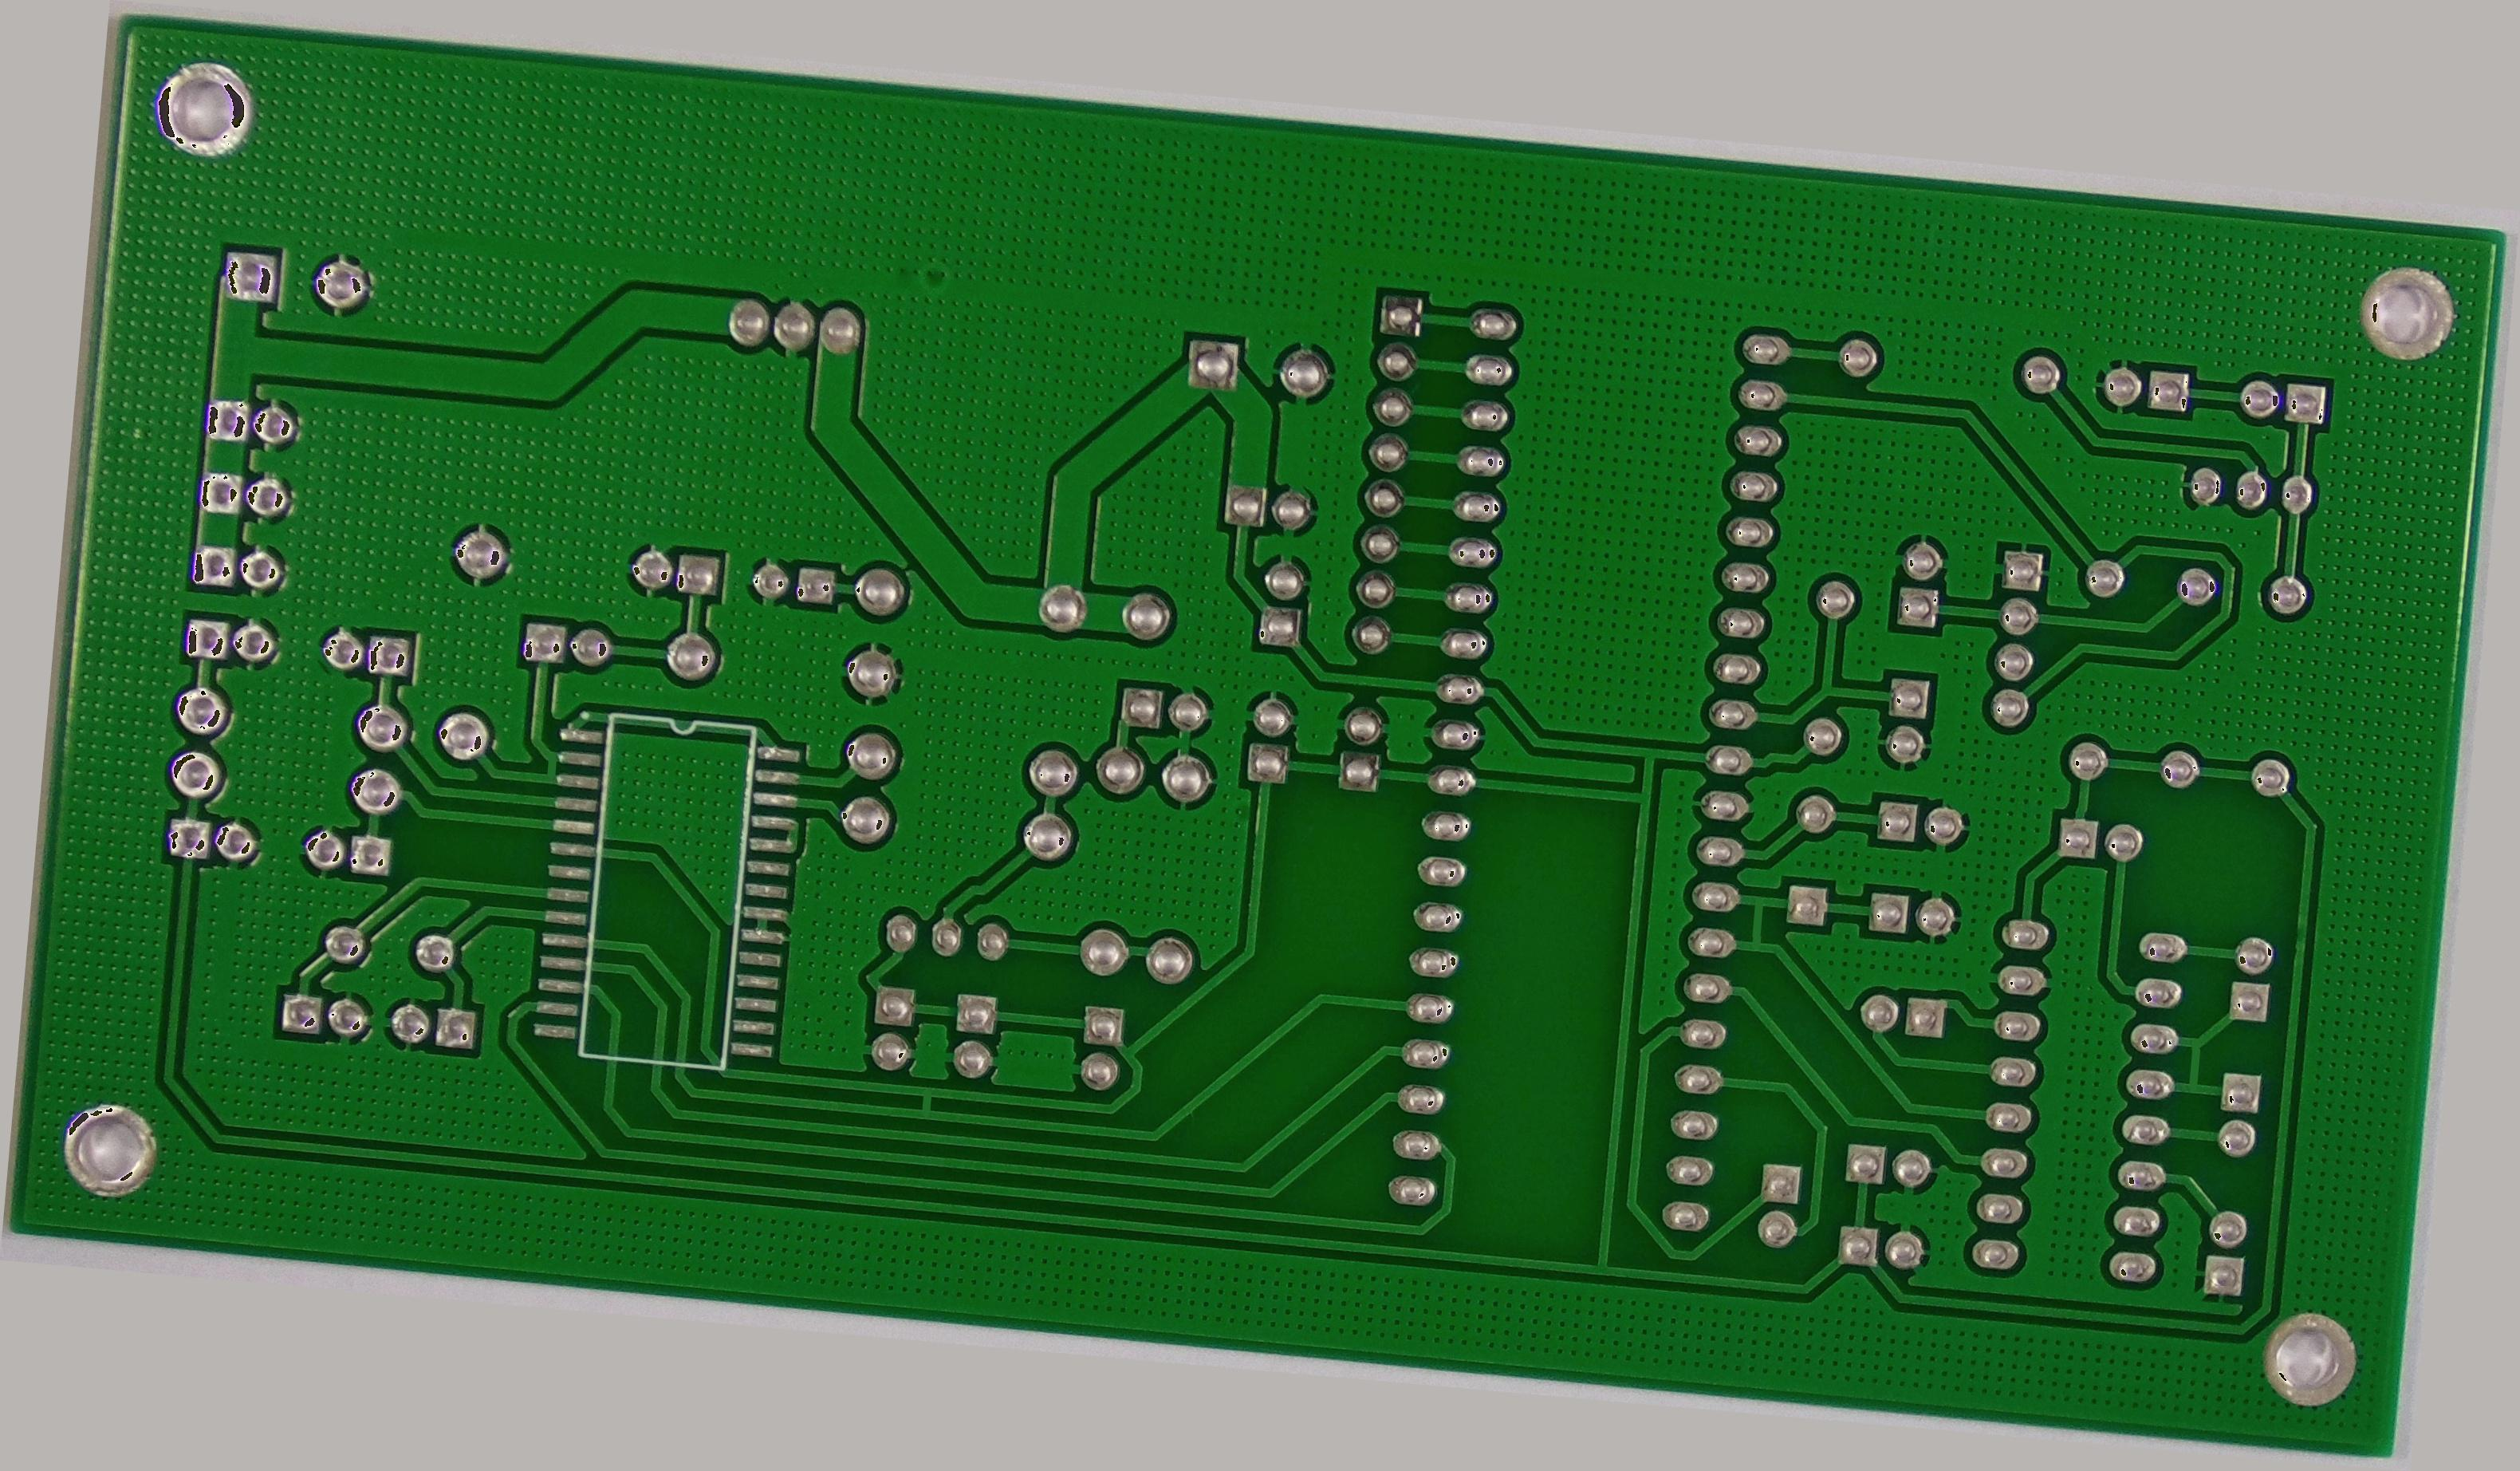short: (1722, 883, 1797, 968), (2158, 1031, 2230, 1103), (896, 1072, 949, 1130), (532, 743, 572, 785)
